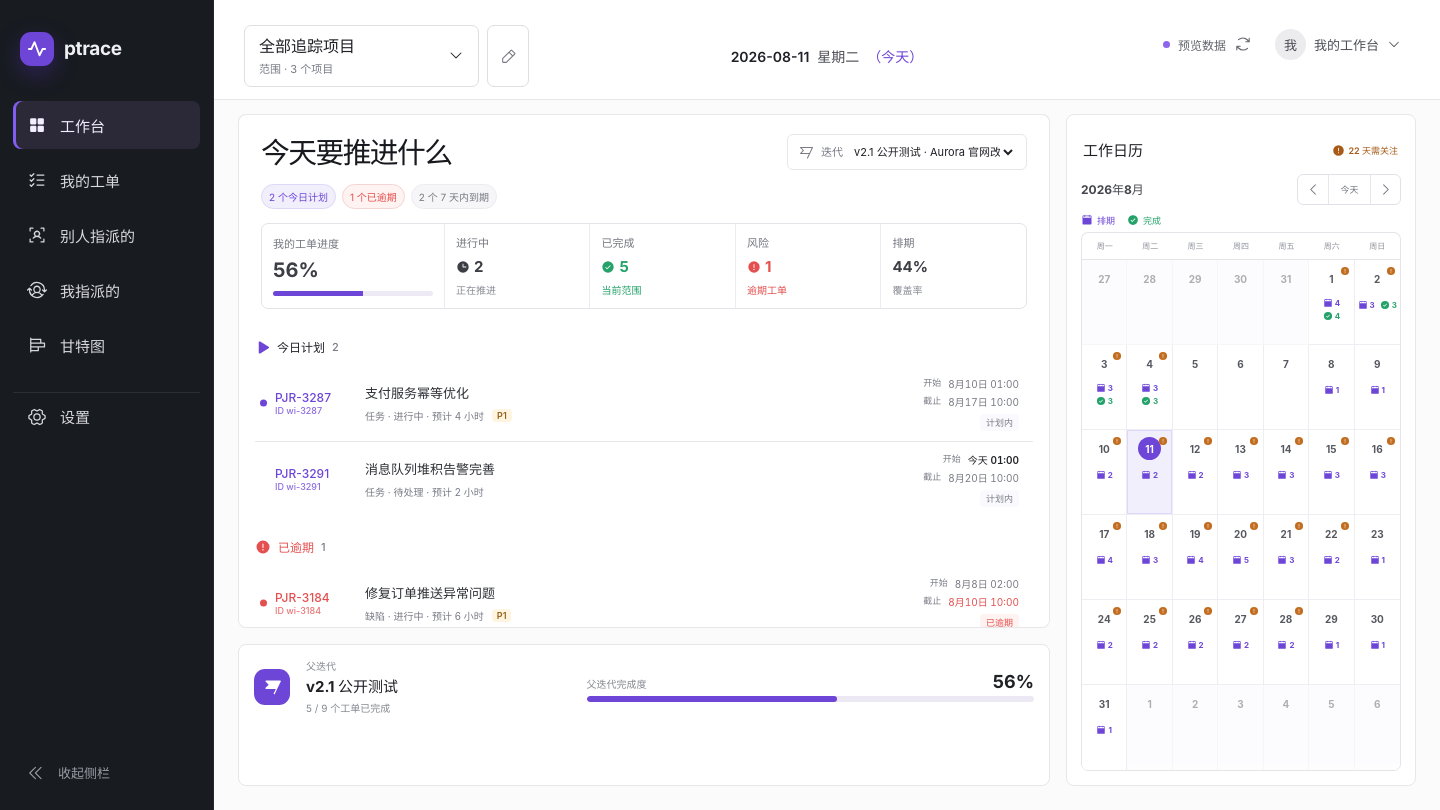
Scenario: PtraceDesk core interactions › copies the workitem number and internal ID without opening details
Check: the text "消息队列堆积告警完善" is shown, box [255,442,1033,517]
What coordinates should you click on to do the following:
click the element titled "复制工单编号"
I would click on:
 (302, 479)
Its box is [275,466,329,492].
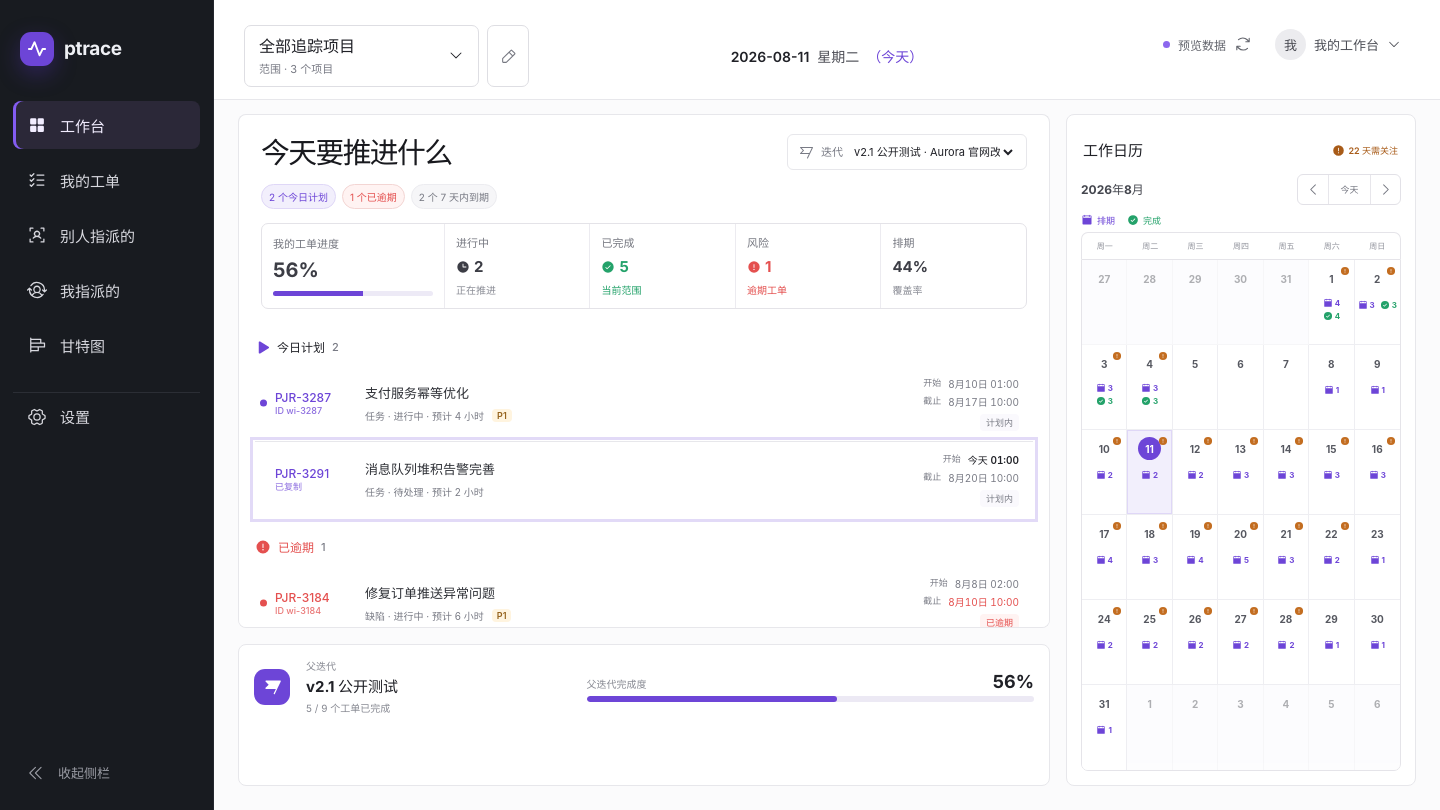
Check: the text "已复制" is shown, box [275,482,302,492]
What coordinates should you click on to do the following:
click the text "消息队列堆积告警完善"
I would click on:
 (430, 469)
Its box is [365,461,495,477].
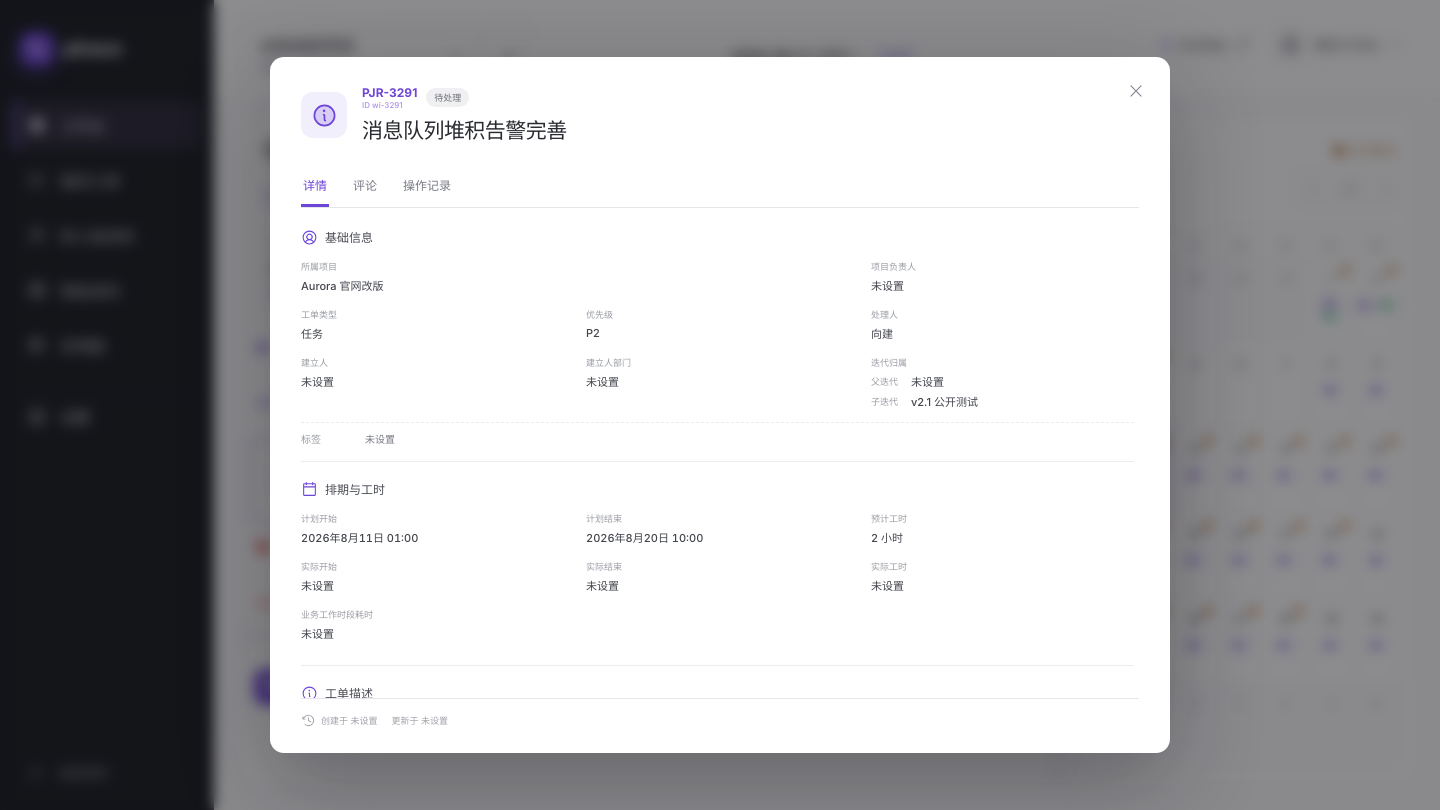
Check: the dialog "消息队列堆积告警完善" is shown, box [270,57,1170,753]
